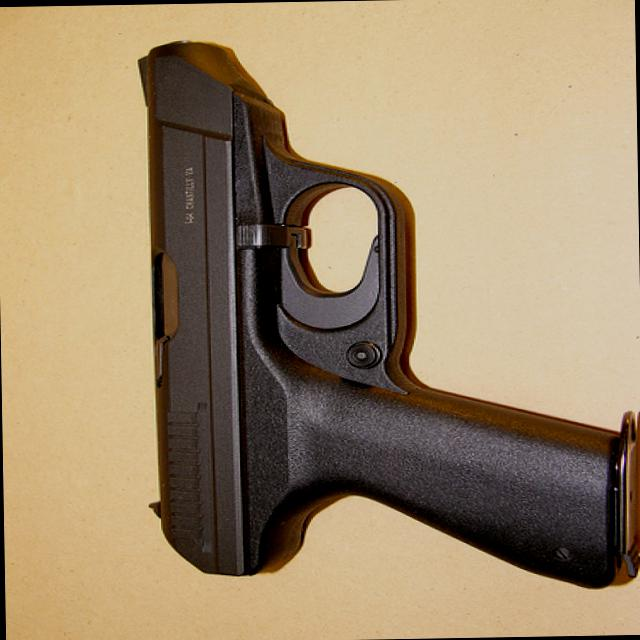handgun: (133, 34, 635, 599)
